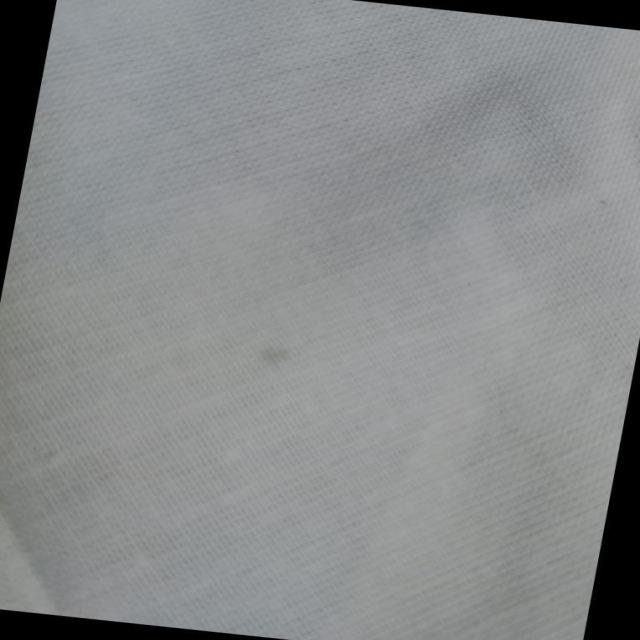stain: (243, 330, 310, 380)
